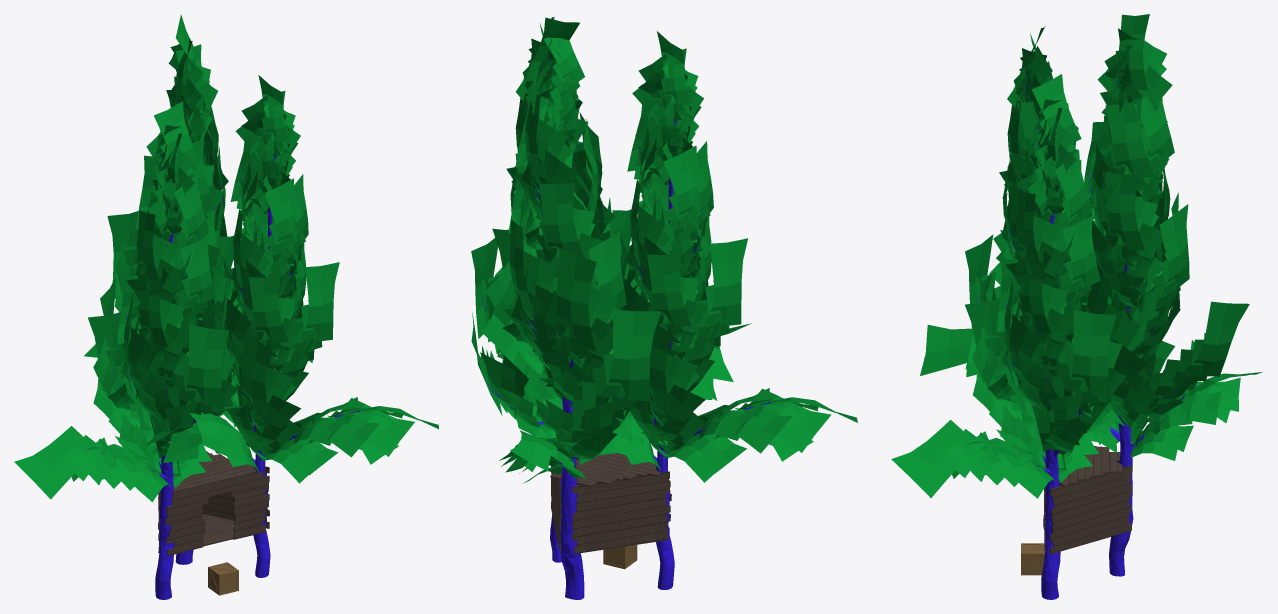
Rendered from Treehouse 1.fbx.
3 views of the same model, side by side, from view 1: azimuth 30°, elevation 25°; view 2: azimuth 150°, elevation 25°; view 3: azimuth 270°, elevation 25° (orthographic). The views are drawn at different scales.
Parts seen in each view (by area): view 1: Trees, Treehouse, Box; view 2: Trees, Treehouse, Box; view 3: Trees, Treehouse, Box.
Boxes of the visible parts, x1=… form: Trees: x1=14, y1=14, x2=438, y2=599; Treehouse: x1=158, y1=451, x2=269, y2=555; Box: x1=208, y1=562, x2=238, y2=595; Trees: x1=471, y1=17, x2=858, y2=599; Treehouse: x1=550, y1=453, x2=671, y2=553; Box: x1=603, y1=545, x2=637, y2=569; Trees: x1=891, y1=14, x2=1262, y2=599; Treehouse: x1=1044, y1=446, x2=1132, y2=554; Box: x1=1021, y1=543, x2=1044, y2=575.
Bounding box in the file's own units: 981 × 1306 × 780.
